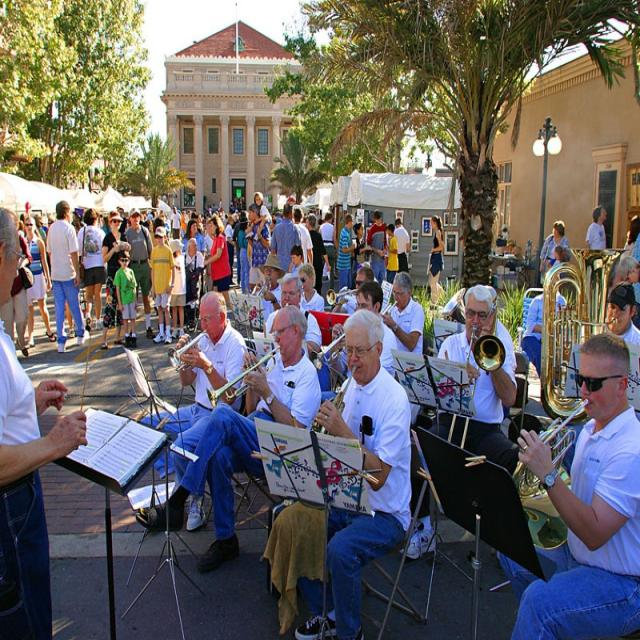body: (133, 303, 325, 575), (272, 307, 413, 640), (494, 327, 640, 639), (0, 199, 92, 639), (394, 280, 528, 564), (138, 289, 249, 531), (45, 200, 91, 356), (331, 279, 399, 380), (519, 272, 568, 388), (18, 213, 57, 349), (262, 271, 324, 352), (98, 208, 132, 353), (605, 279, 640, 412), (73, 206, 109, 335), (124, 207, 158, 340), (2, 220, 34, 358), (379, 270, 425, 353), (609, 212, 640, 328), (147, 225, 175, 346), (202, 213, 234, 314), (484, 282, 518, 376), (112, 246, 138, 350), (244, 202, 272, 296), (250, 253, 286, 324), (584, 202, 609, 304), (186, 193, 248, 232), (166, 238, 189, 343), (270, 202, 304, 273), (426, 213, 449, 315), (181, 236, 205, 333), (330, 264, 376, 314), (306, 212, 332, 298), (317, 210, 339, 297), (538, 219, 572, 275), (140, 206, 187, 245), (335, 212, 357, 294), (14, 201, 56, 242), (366, 209, 388, 287), (235, 215, 254, 298), (350, 222, 372, 292), (297, 261, 326, 314), (270, 207, 324, 235), (293, 206, 314, 267), (181, 219, 209, 261), (222, 214, 238, 287), (95, 206, 131, 238), (232, 210, 246, 289), (252, 191, 273, 243), (393, 217, 411, 274), (287, 243, 307, 294), (384, 223, 399, 284), (68, 202, 86, 239), (202, 230, 215, 280), (505, 238, 524, 272), (546, 243, 566, 272), (65, 300, 76, 339)
